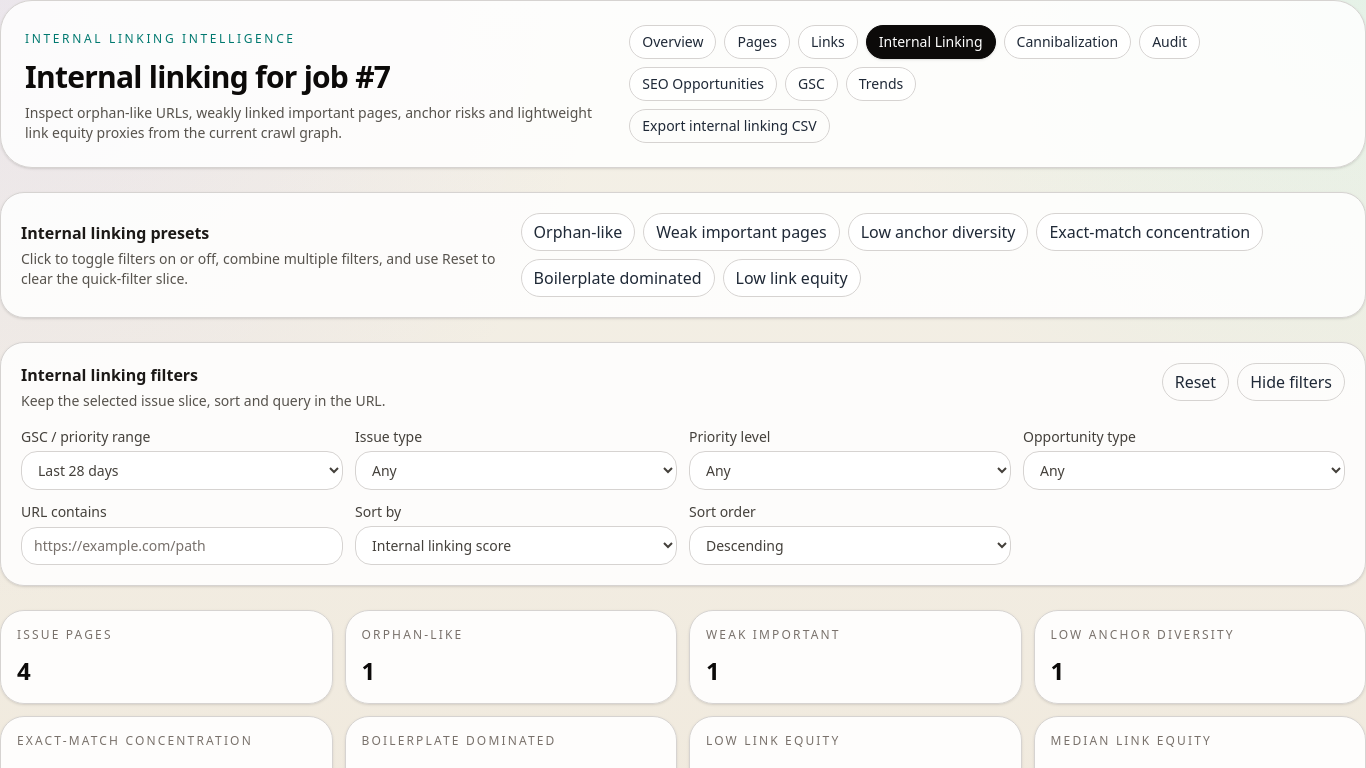
Test case: InternalLinkingPage › quick filters keep query-string state and export current filters
Click the button "Orphan-like" at (578, 232), box [520,213,635,251]
(page scrolled)
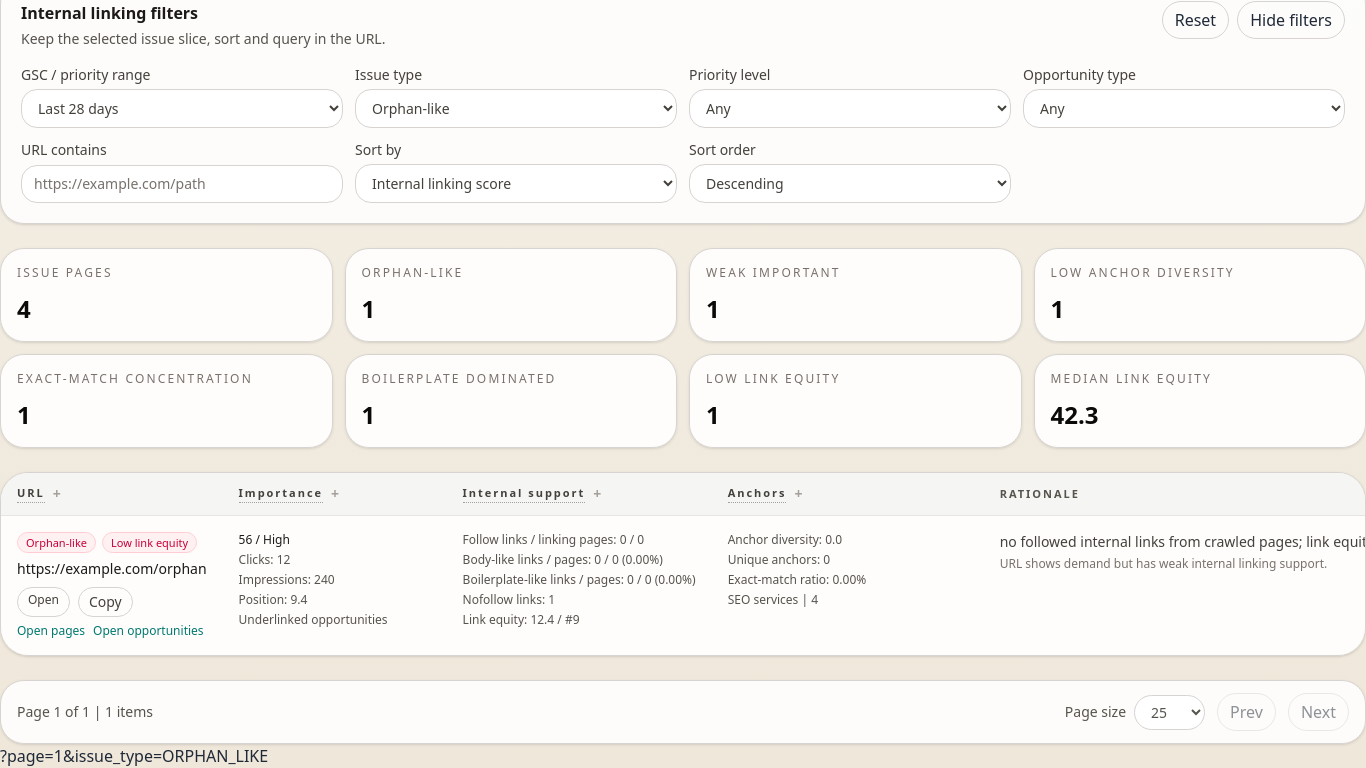
expect the text with test id "location-search" shows "issue_type=ORPHAN_LIKE": met, box [0,745,268,767]
expect the text with test id "location-search" shows "page=1": met, box [0,745,268,767]
